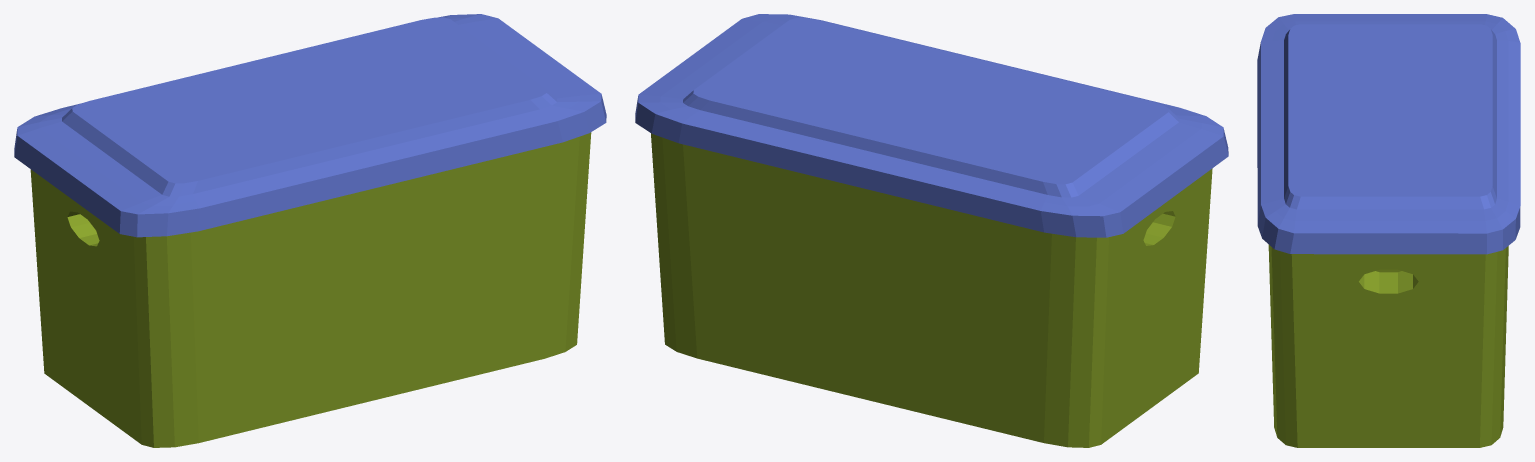
Rendered from PlasticBox.fbx.
3 renders of one model, left to right at view 1: azimuth 30°, elevation 25°; view 2: azimuth 150°, elevation 25°; view 3: azimuth 270°, elevation 25°, orthographic. The views are drawn at different scales.
Visible parts, largest first — view 1: caixa plastico; view 2: caixa plastico; view 3: caixa plastico.
Part boxes in pixels (x1,y1,x2,y2): caixa plastico: (14,14,606,447); caixa plastico: (635,14,1228,447); caixa plastico: (1257,14,1520,447).
Bounding box in the file's own units: 400 × 200 × 200.
